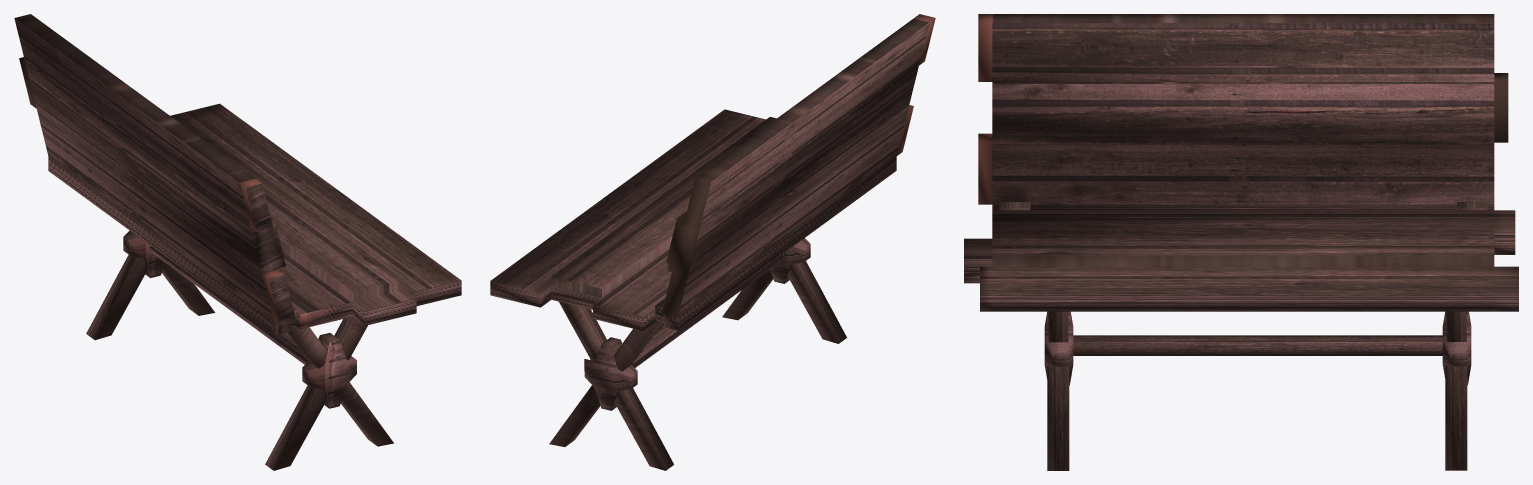
File: Banco.fbx
3 views of the same model, side by side, from view 1: azimuth 30°, elevation 25°; view 2: azimuth 150°, elevation 25°; view 3: azimuth 270°, elevation 25° (orthographic). The views are drawn at different scales.
Parts seen in each view (by area): view 1: Banco; view 2: Banco; view 3: Banco.
Part boxes in pixels (x1,y1,x2,y2): Banco: (14, 14, 461, 470); Banco: (490, 14, 935, 470); Banco: (964, 14, 1518, 470).
Bounding box in the file's own units: 165 × 329 × 235.
